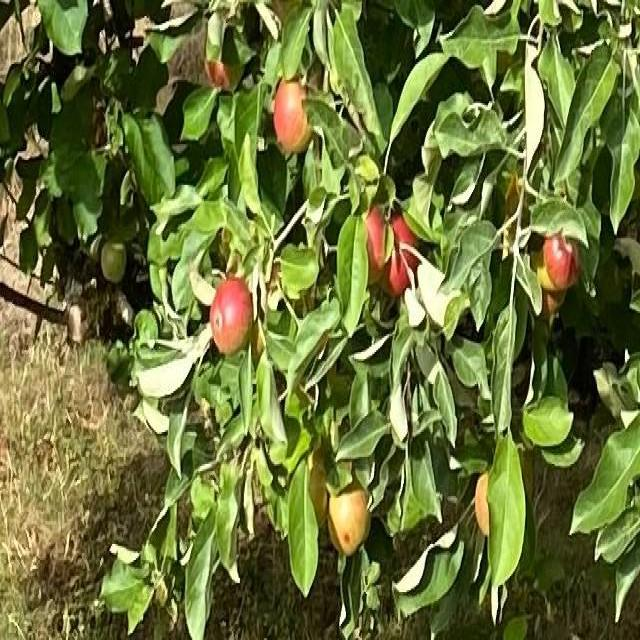Rotten Apple: (211, 281, 253, 352), (275, 74, 312, 154), (328, 485, 369, 551), (387, 217, 419, 288), (545, 233, 581, 290), (365, 206, 384, 283), (206, 53, 242, 91), (310, 464, 329, 523), (476, 473, 489, 533)
